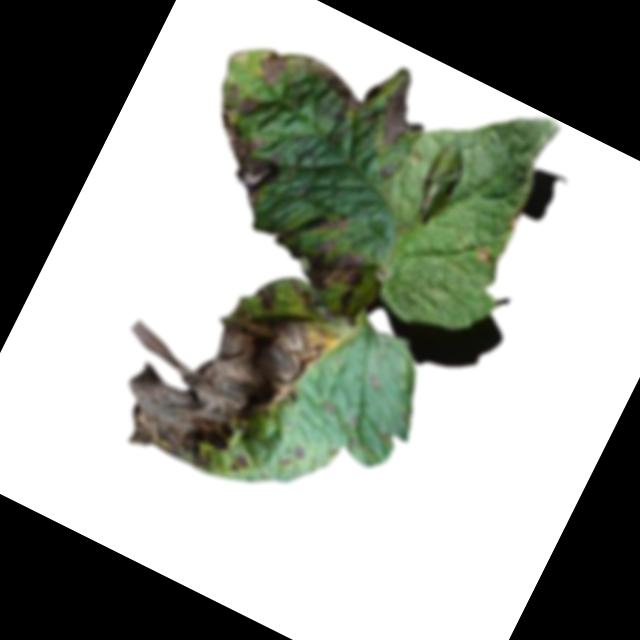Early_blight: (83, 226, 348, 503), (181, 77, 312, 216), (264, 191, 388, 309), (292, 43, 391, 126), (367, 70, 441, 159), (248, 44, 293, 92), (471, 241, 497, 265), (506, 208, 525, 231), (378, 162, 396, 181)
